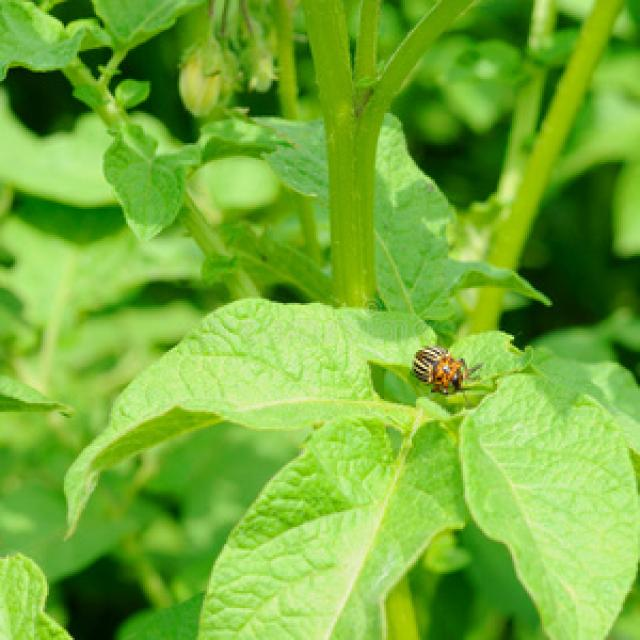ShuCaiHuaBanChong-Grown-: (407, 341, 484, 416)
